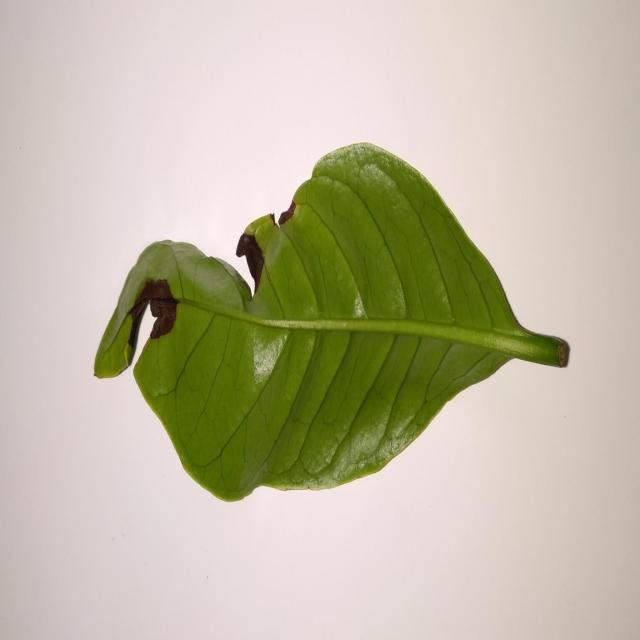Enfermedad-Antracnosis: (92, 143, 571, 506)
